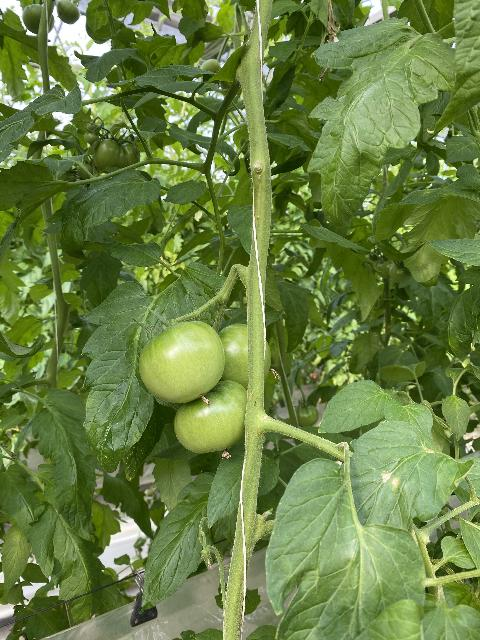b_green: (138, 320, 225, 404), (173, 380, 248, 453), (217, 323, 270, 393), (93, 139, 141, 174), (22, 3, 55, 34), (56, 0, 80, 24), (85, 131, 99, 146)
